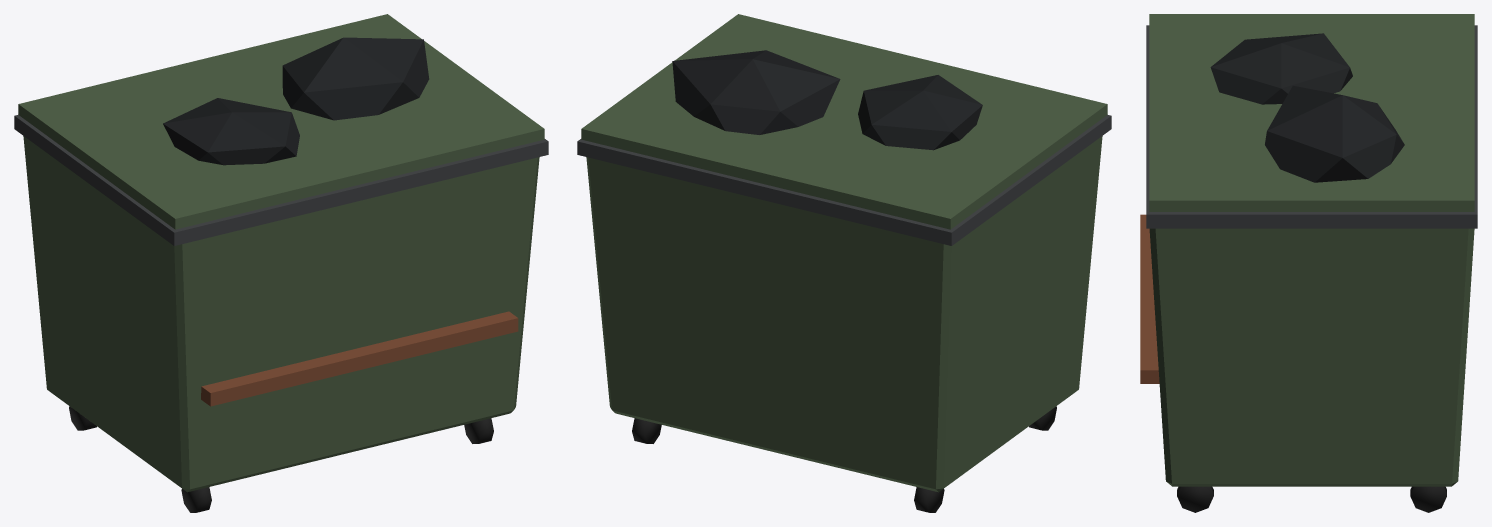
The model's file is dumpster.glb.
The picture shows the model from 3 angles, left to right: view 1: azimuth 30°, elevation 25°; view 2: azimuth 150°, elevation 25°; view 3: azimuth 270°, elevation 25°; orthographic projection. The views are drawn at different scales.
Visible parts, largest first — view 1: Dumpster, Lid; view 2: Dumpster, Lid; view 3: Dumpster, Lid.
Boxes of the visible parts, box(x1,y1,x2,y2) form: Dumpster: box(14, 37, 548, 512); Lid: box(18, 14, 544, 229); Dumpster: box(577, 50, 1111, 512); Lid: box(581, 14, 1107, 229); Dumpster: box(1140, 25, 1477, 512); Lid: box(1149, 14, 1474, 211).
Bounding box in the file's own units: 1.46 × 1.37 × 1.1.
